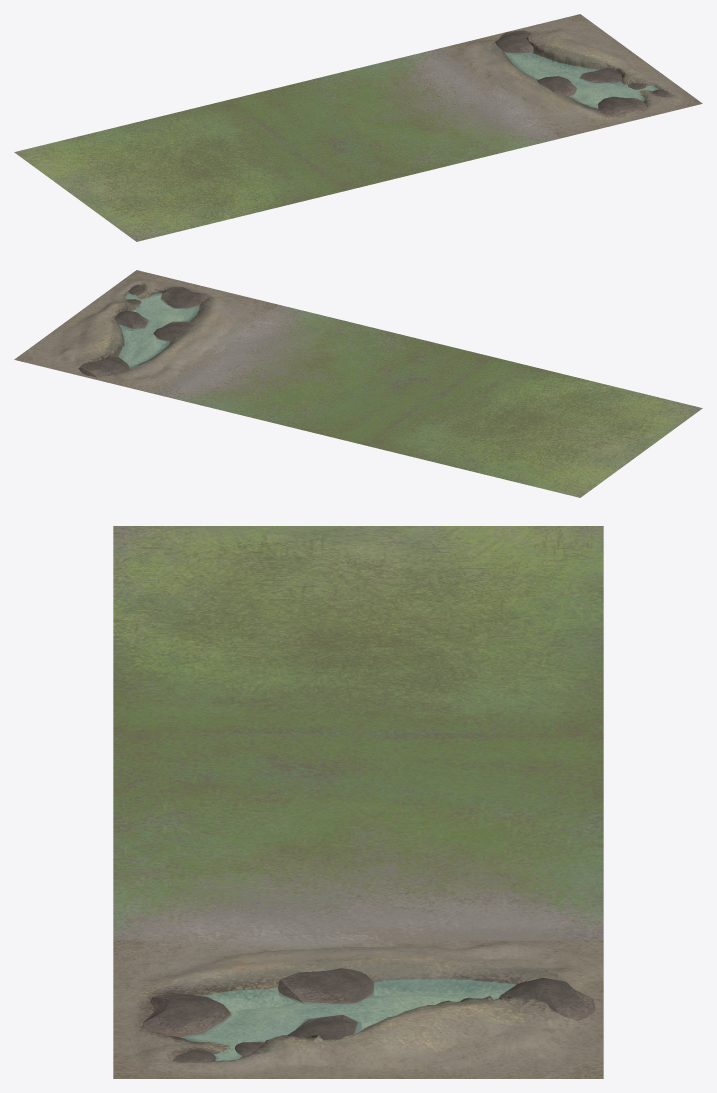
The model's file is Terrain_River.glb.
3 renders of one model, top to bottom at view 1: azimuth 30°, elevation 25°; view 2: azimuth 150°, elevation 25°; view 3: azimuth 270°, elevation 25°, orthographic. The views are drawn at different scales.
Visible parts, largest first — view 1: ground_2, ground_1, Grid, Plane, rock.001, rock.003, rock, rock.002; view 2: ground_2, ground_1, Grid, Plane, rock.003, rock.001, rock.002, rock; view 3: ground_1, ground_2, Grid, Plane, rock.003, rock.002, rock.001, rock.
Boxes of the visible parts, box(x1,y1,x2,y2) form: ground_2: box(14, 100, 348, 241); ground_1: box(227, 48, 560, 189); Grid: box(439, 14, 702, 138); Plane: box(505, 52, 658, 108); rock.001: box(495, 30, 533, 54); rock.003: box(598, 96, 646, 115); rock: box(579, 68, 622, 85); rock.002: box(537, 76, 577, 96); ground_2: box(368, 356, 702, 497); ground_1: box(156, 304, 489, 445); Grid: box(14, 270, 277, 394); Plane: box(118, 293, 199, 367); rock.003: box(160, 287, 208, 309); rock.001: box(78, 356, 129, 377); rock.002: box(153, 321, 193, 342); rock: box(114, 311, 150, 330); ground_1: box(113, 733, 603, 940); ground_2: box(113, 526, 603, 733); Grid: box(113, 940, 603, 1078); Plane: box(180, 979, 515, 1061); rock.003: box(143, 992, 232, 1037); rock.002: box(277, 968, 374, 1005); rock.001: box(498, 978, 595, 1021); rock: box(286, 1014, 361, 1040).
Bounding box in the file's own units: 16 × 0.3901 × 6.
Materials: 5 (4 with a texture image).
